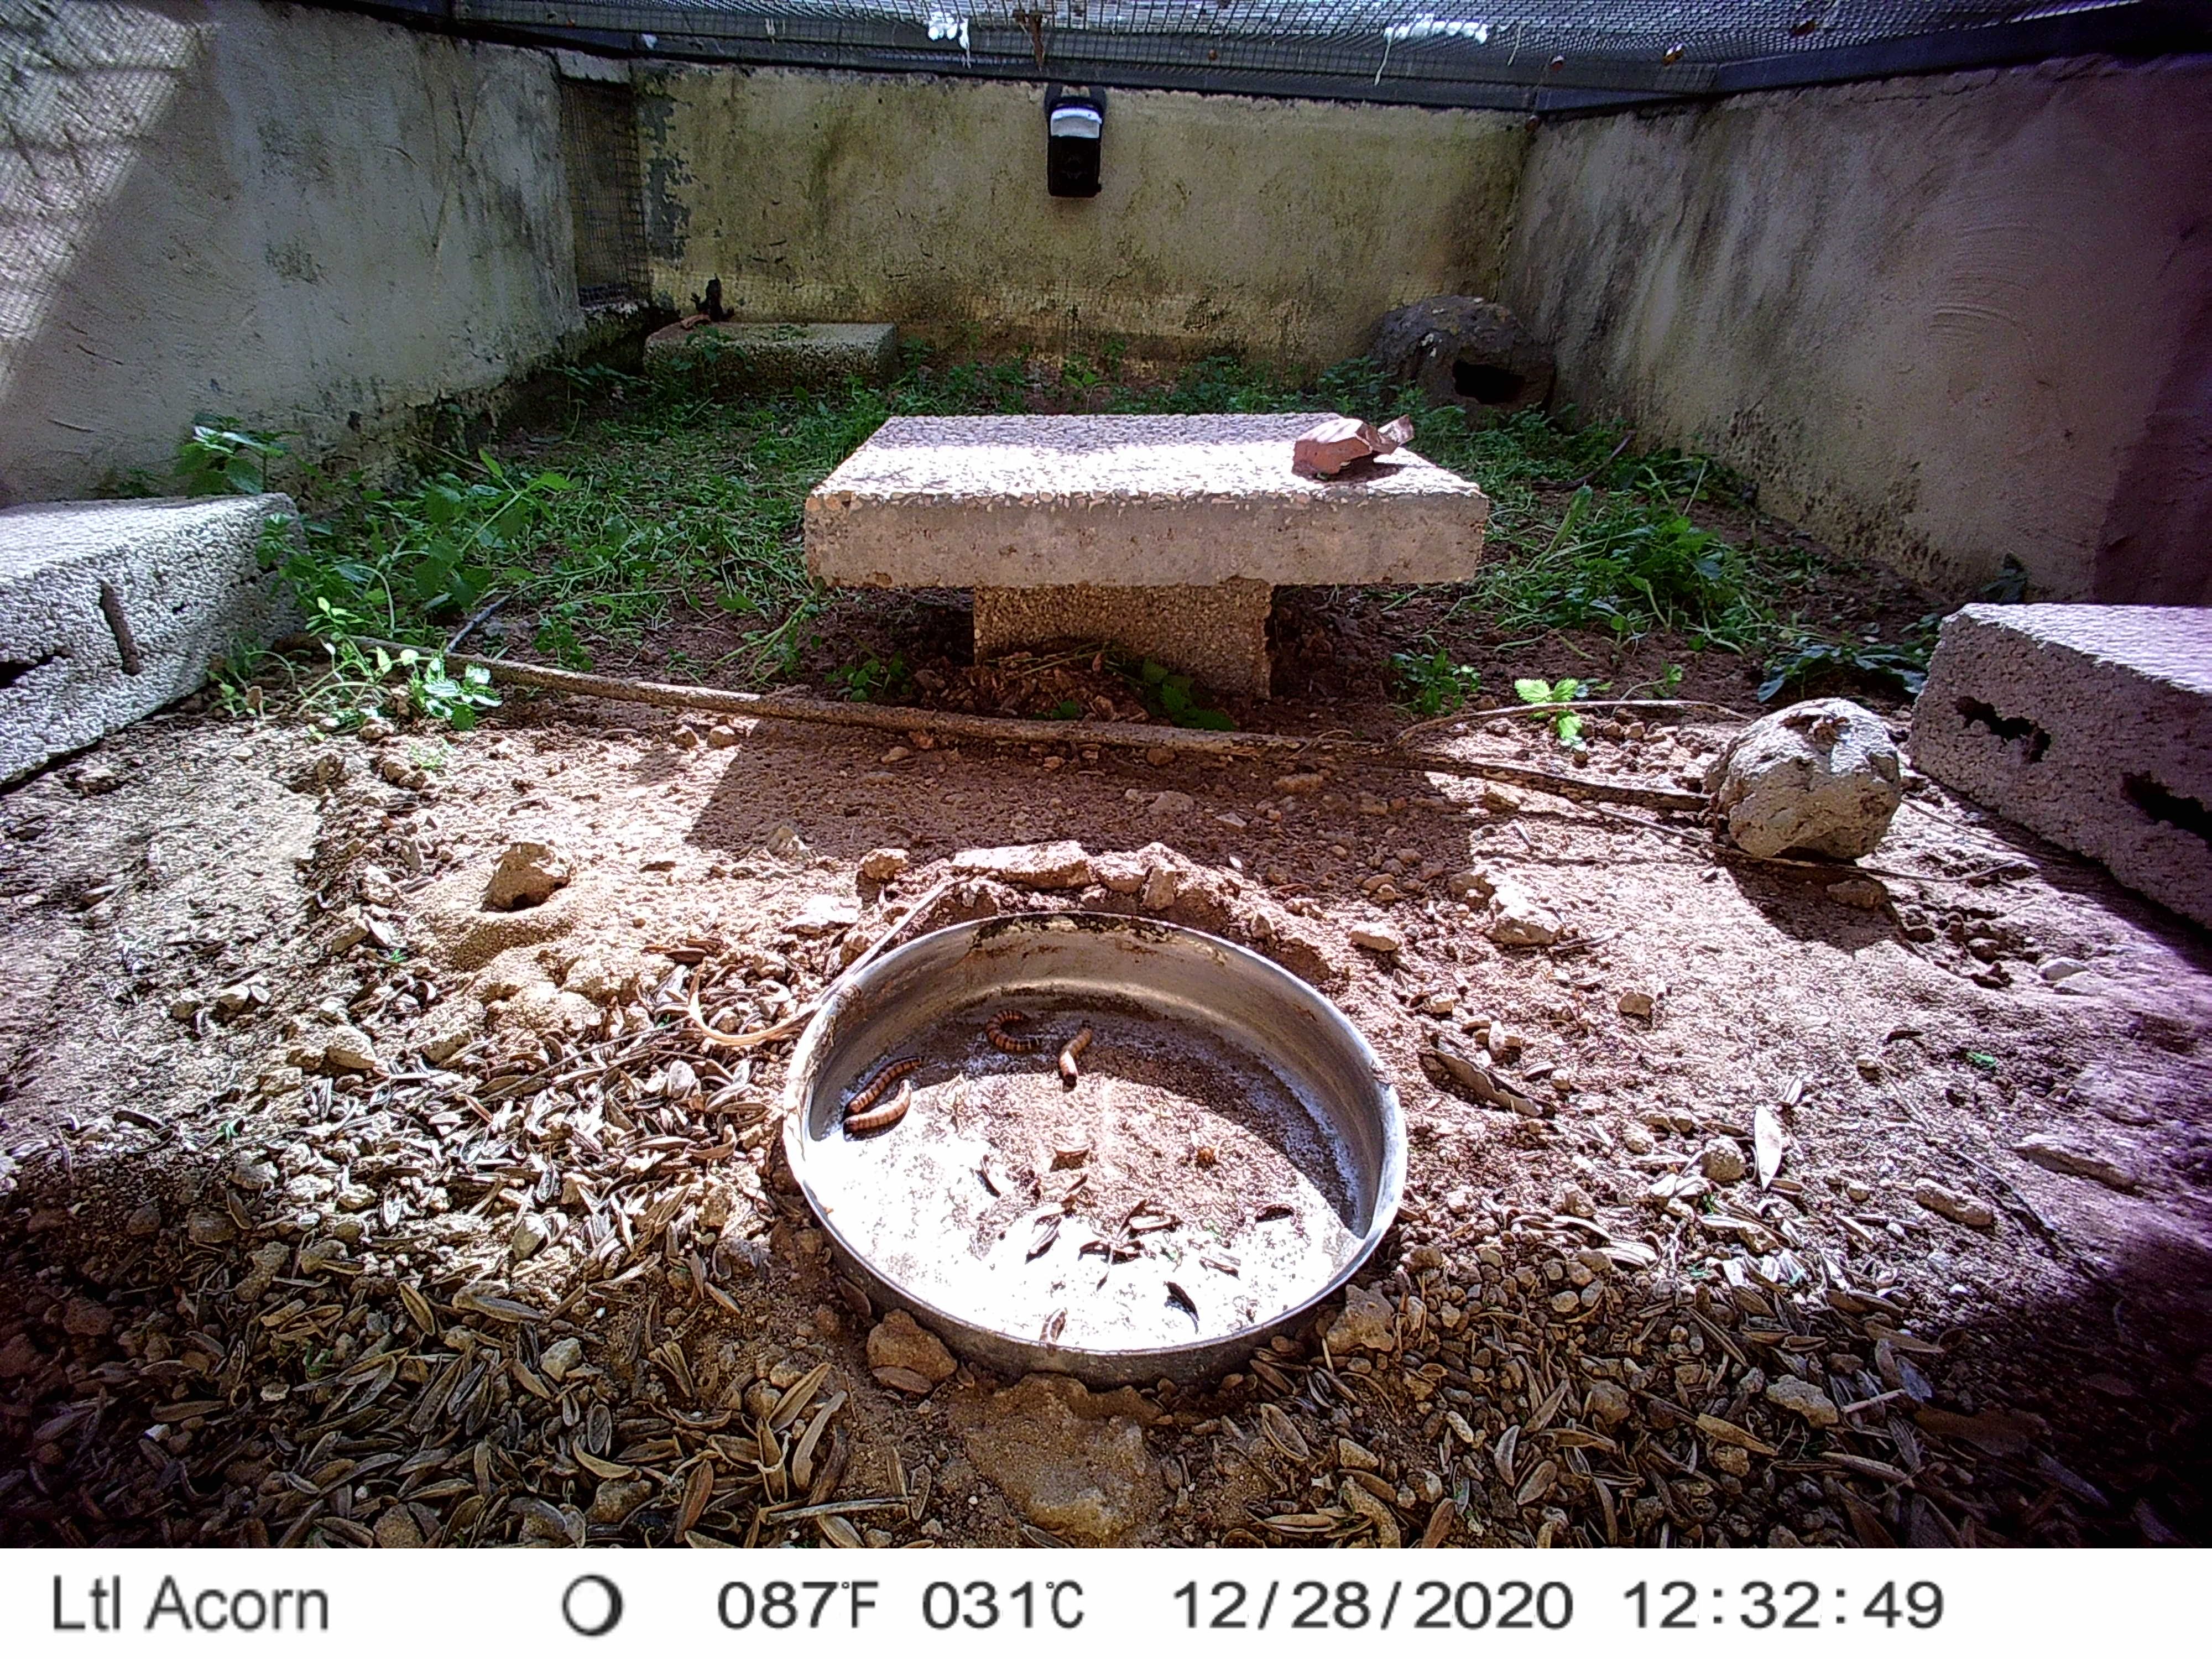lizard: (686, 272, 733, 321)
